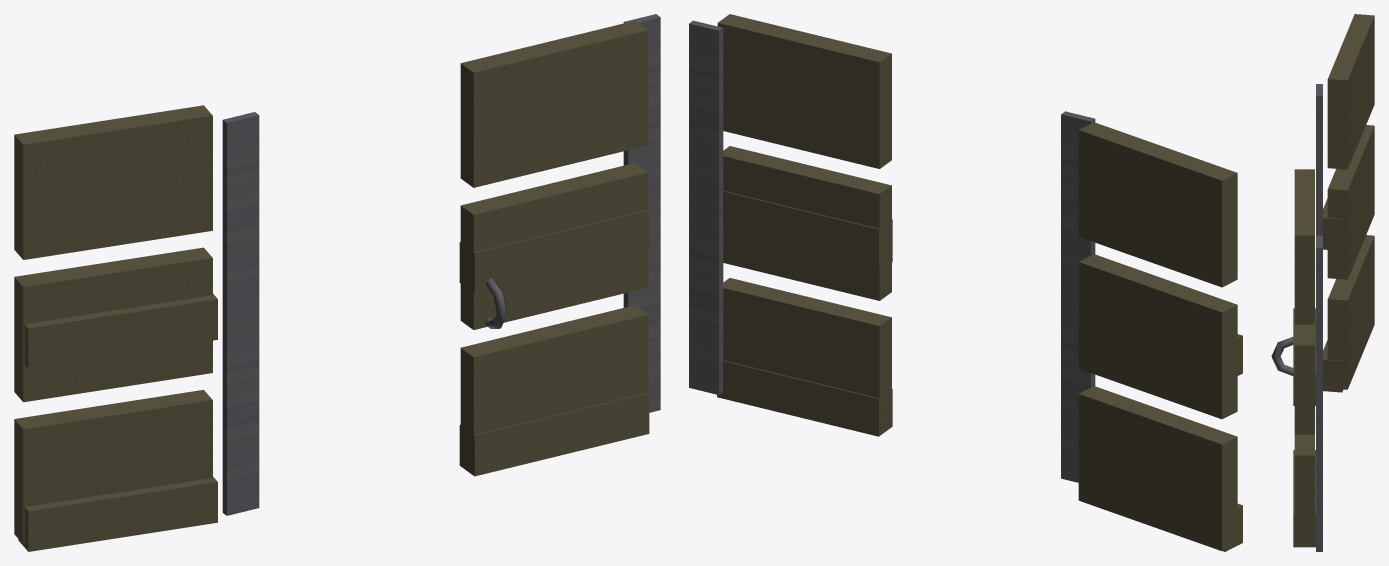
Rendered from village_shutters3.glb.
3 renders of one model, left to right at view 1: azimuth 30°, elevation 25°; view 2: azimuth 150°, elevation 25°; view 3: azimuth 270°, elevation 25°, orthographic. The views are drawn at different scales.
Parts seen in each view (by area): view 1: sh3_0, sh3_1; view 2: sh3_0, sh3_1; view 3: sh3_0, sh3_1.
Part boxes in pixels (box(x1,y1,x2,y2)): sh3_0: box(14, 20, 649, 551); sh3_1: box(222, 14, 660, 515); sh3_0: box(717, 14, 1242, 551); sh3_1: box(689, 20, 1095, 482); sh3_0: box(1293, 14, 1374, 547); sh3_1: box(1271, 84, 1322, 551).
Bounding box in the file's own units: 0.9464 × 0.595 × 0.1785.
2 materials, 2 textured.
